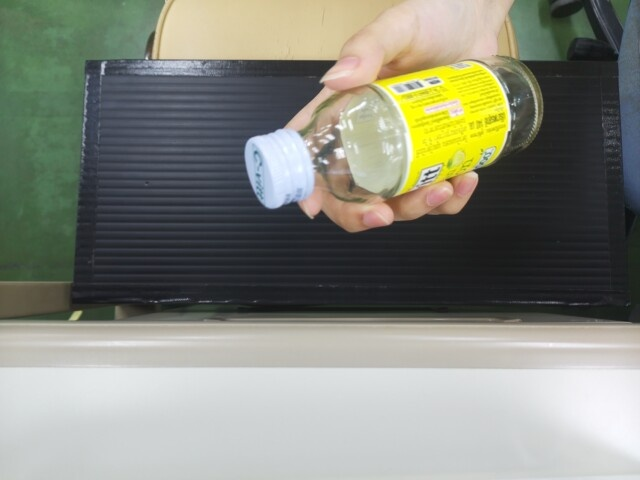glass_bottle: (242, 75, 535, 209)
